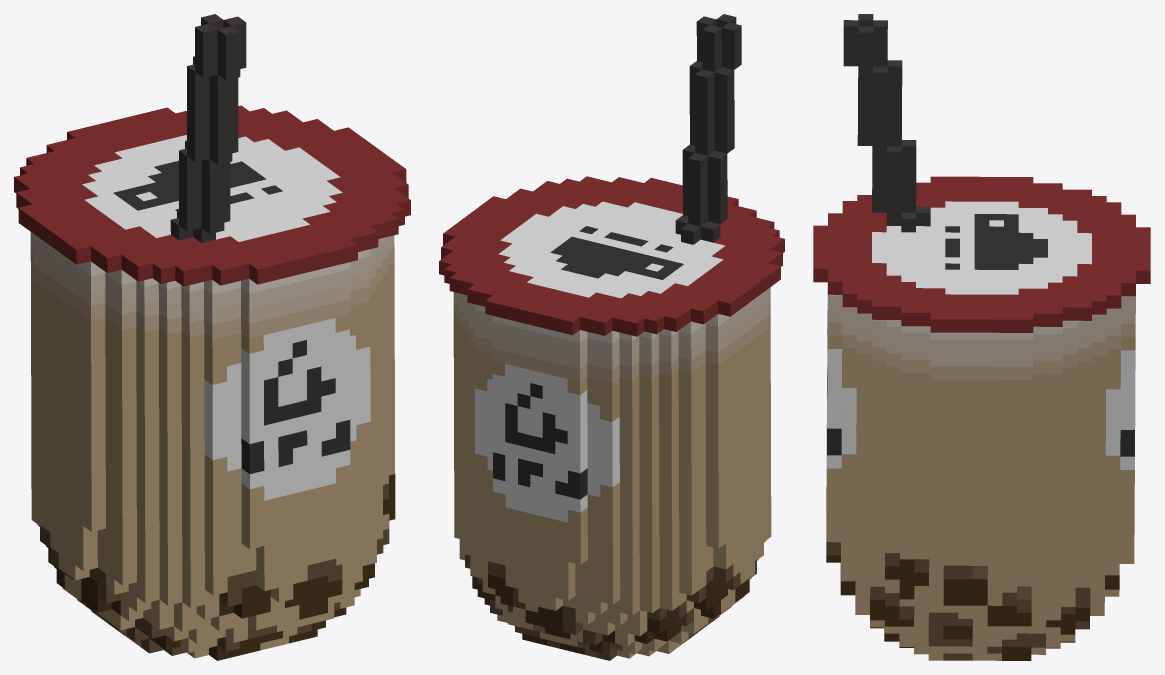
The model's file is boba.glb.
3 views of the same model, side by side, from view 1: azimuth 30°, elevation 25°; view 2: azimuth 150°, elevation 25°; view 3: azimuth 270°, elevation 25° (orthographic). The views are drawn at different scales.
Parts seen in each view (by area): view 1: VoxTransform; view 2: VoxTransform; view 3: VoxTransform.
Part boxes in pixels (<box>): VoxTransform: <box>14,14,410,660</box>; VoxTransform: <box>439,14,784,660</box>; VoxTransform: <box>813,14,1150,660</box>.
Bounding box in the file's own units: 23 × 43.08 × 23.
